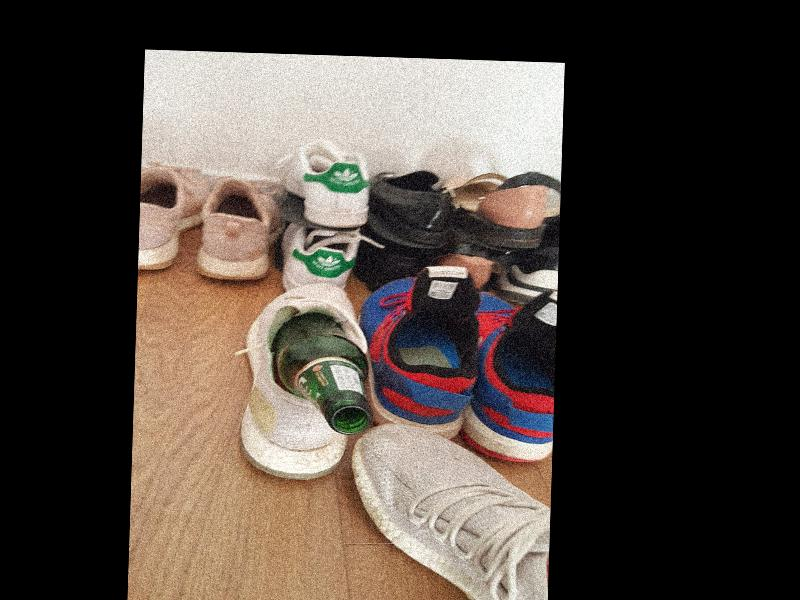Beer: (272, 313, 373, 434)
